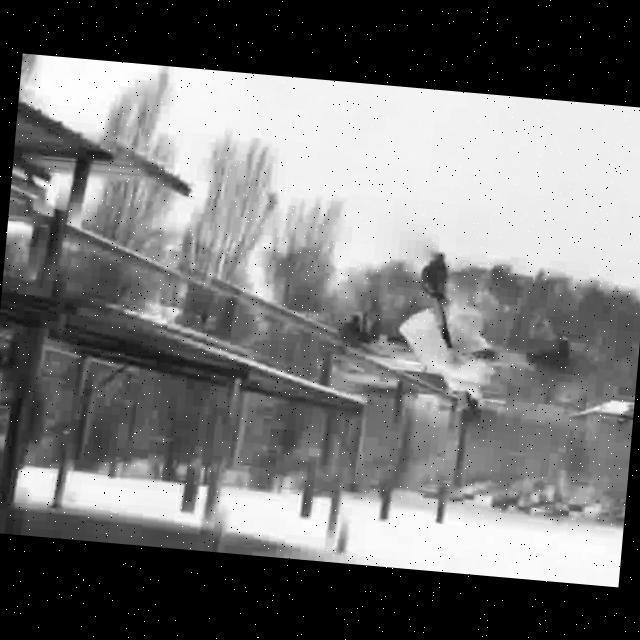Drons: (322, 229, 594, 452)
